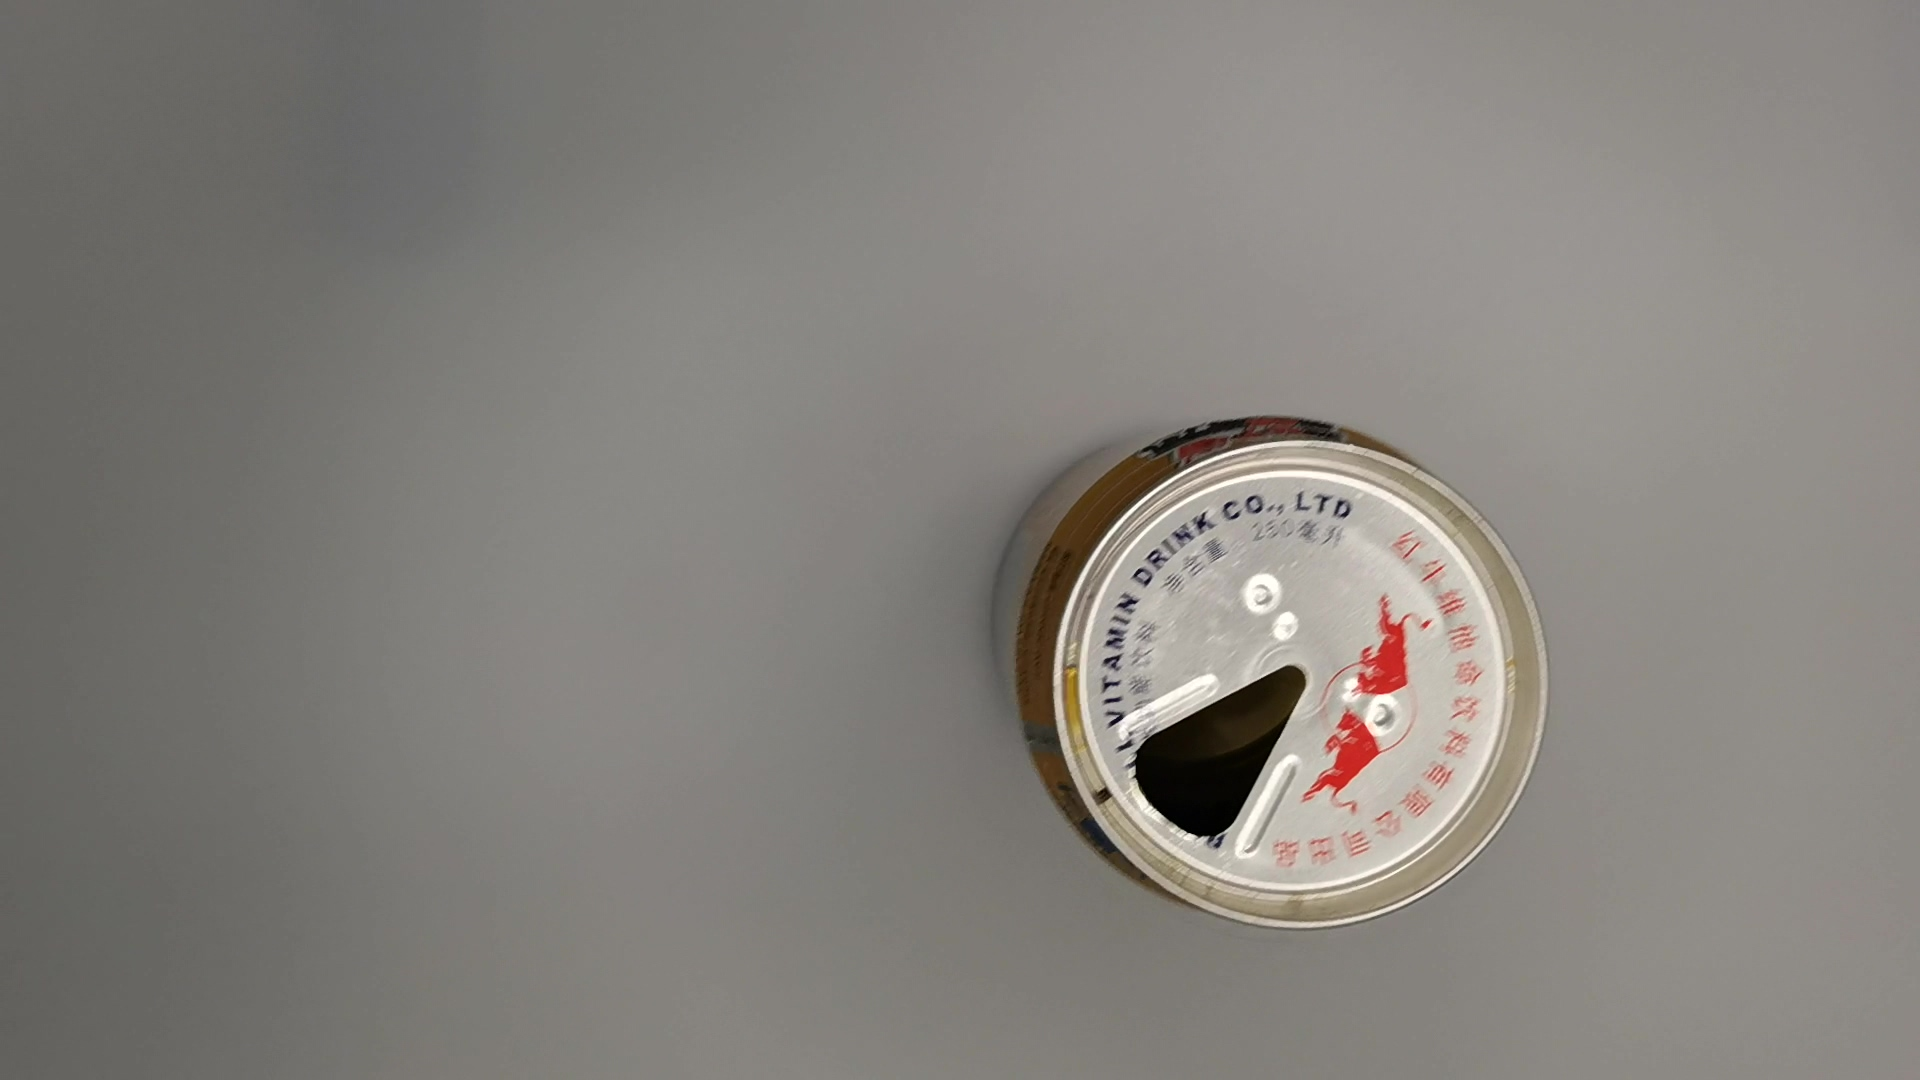can: (986, 406, 1555, 953)
